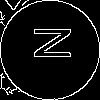N: (25, 25, 70, 61)
